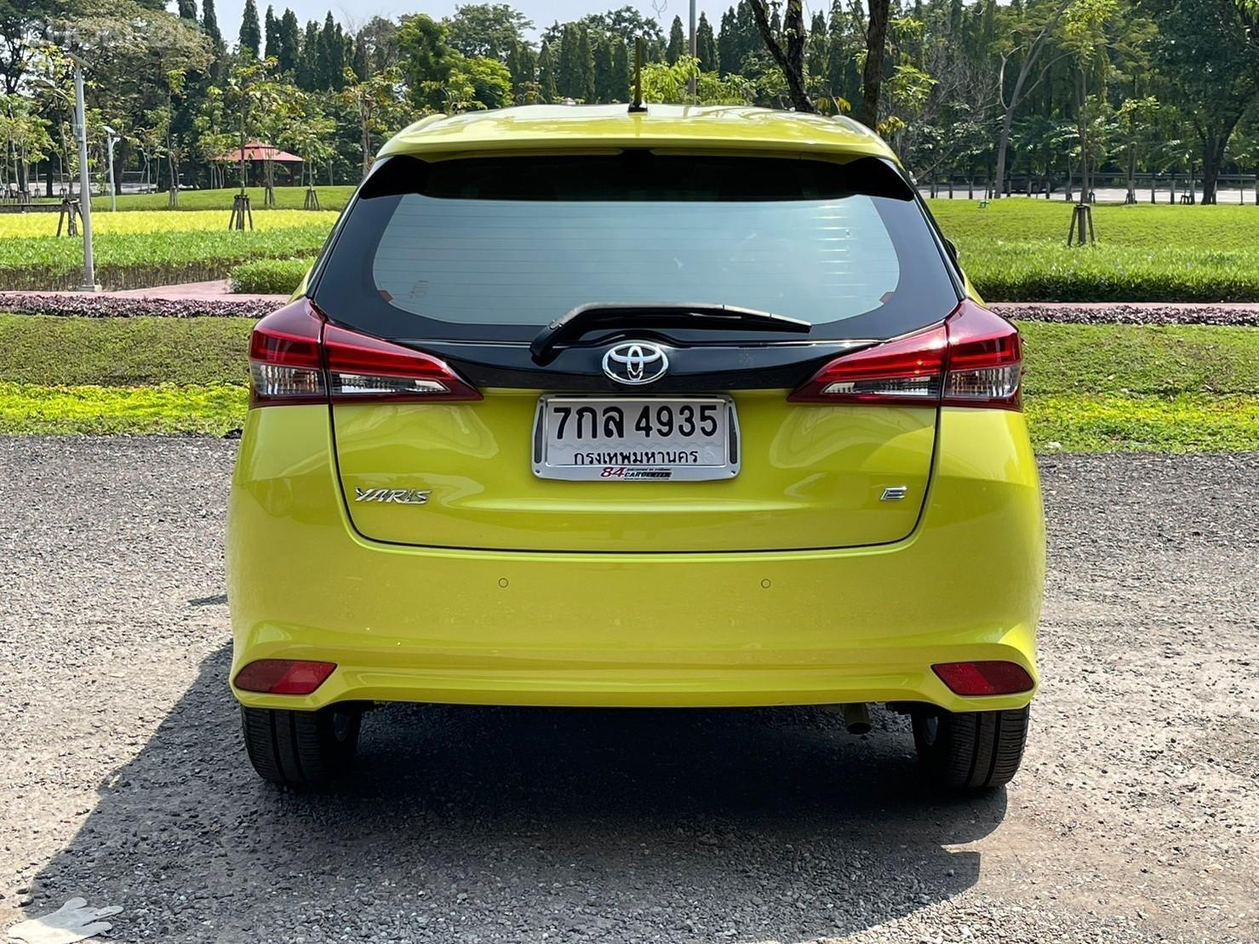license-plate: (527, 390, 745, 488)
